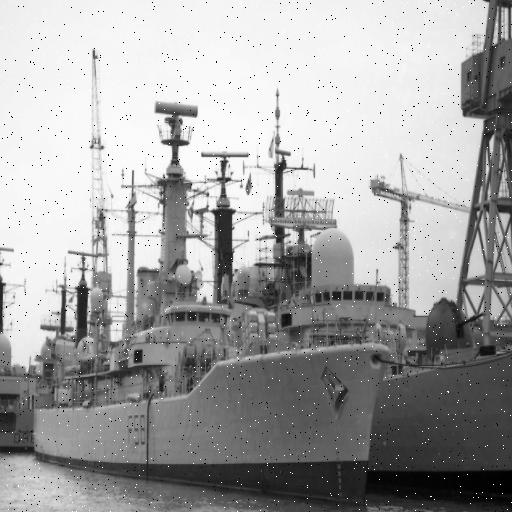Fragata: (29, 165, 396, 512), (1, 213, 44, 462)
